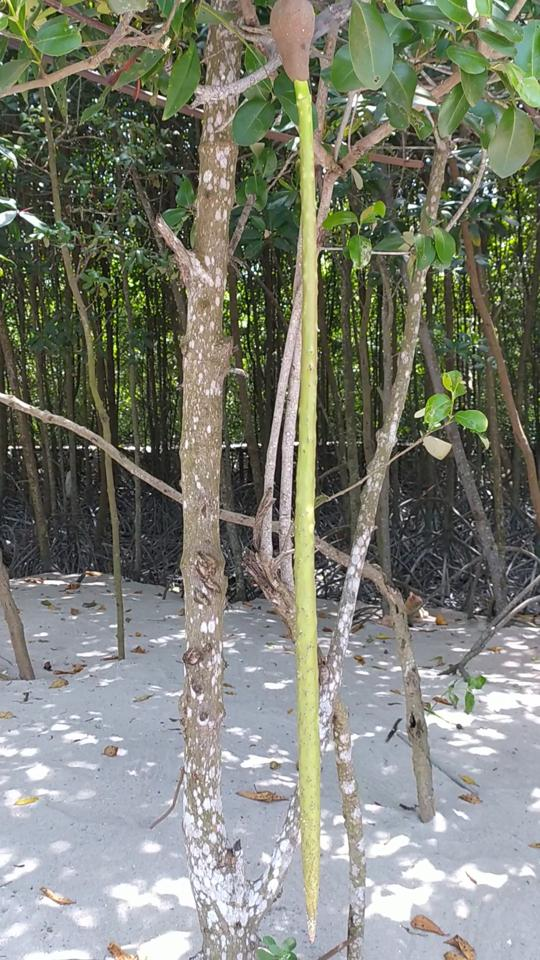mentah: (257, 1, 349, 948)
